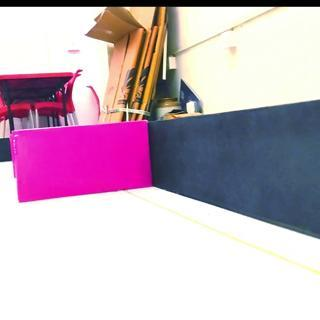xparking: (10, 119, 153, 203)
